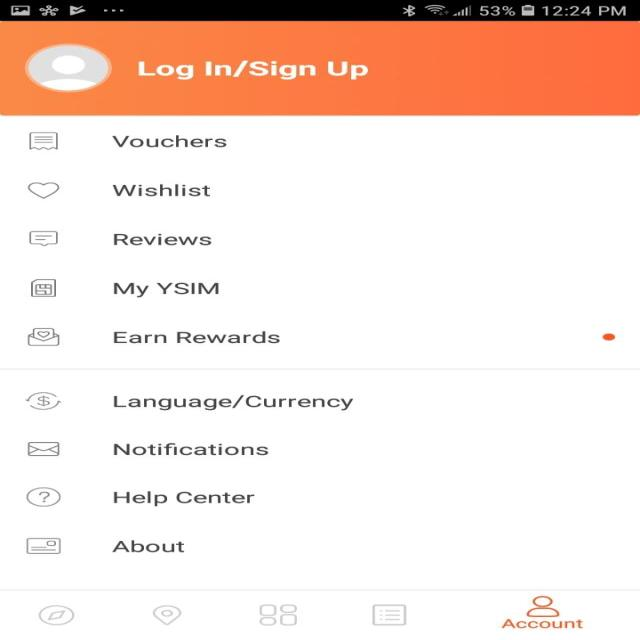Icon: (24, 43, 113, 93), (259, 604, 297, 625), (37, 604, 75, 625), (525, 595, 559, 617), (24, 391, 62, 410), (372, 604, 406, 625), (27, 488, 62, 507), (152, 604, 182, 625), (28, 328, 61, 346), (26, 538, 60, 554), (27, 182, 59, 199), (28, 132, 58, 150), (31, 278, 57, 297), (30, 230, 59, 246), (26, 442, 59, 456)
Text: (138, 60, 368, 80), (113, 394, 353, 411), (113, 490, 254, 507), (112, 442, 268, 456), (113, 331, 280, 344), (111, 134, 226, 148), (113, 282, 219, 297), (112, 233, 212, 246), (112, 184, 210, 196), (112, 540, 185, 552), (501, 618, 584, 628)
